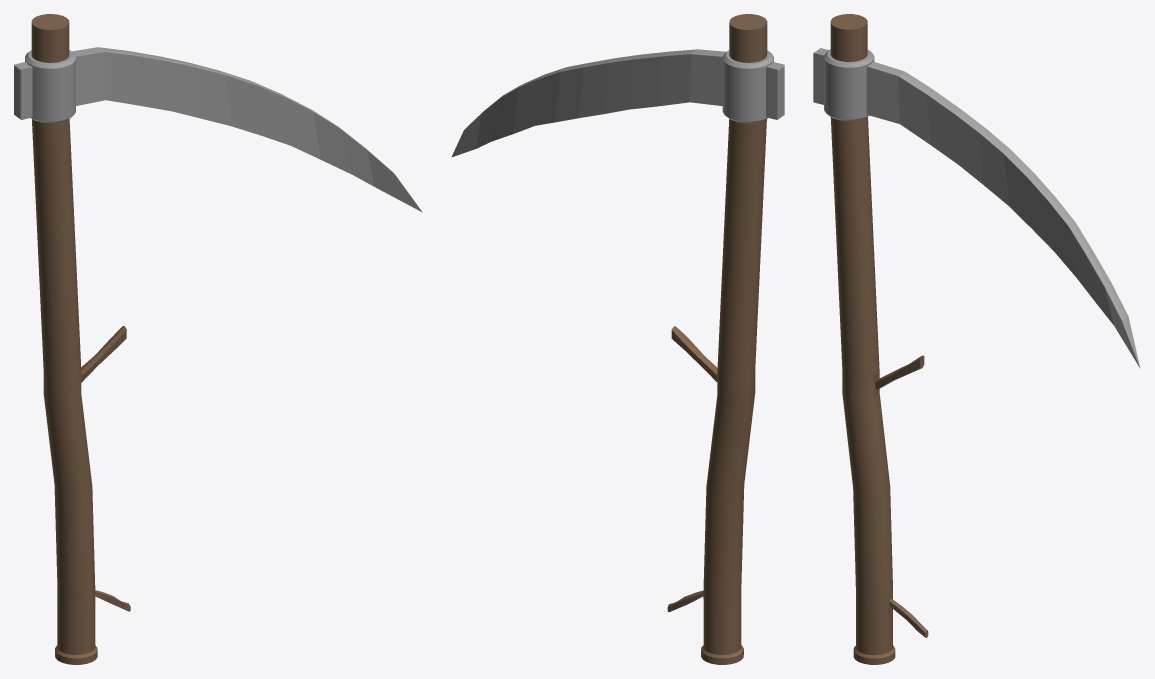
Rendered from Scythe.fbx.
3 views of the same model, side by side, from view 1: azimuth 30°, elevation 25°; view 2: azimuth 150°, elevation 25°; view 3: azimuth 330°, elevation 25° (orthographic).
Parts seen in each view (by area): view 1: Scythe; view 2: Scythe; view 3: Scythe.
Part boxes in pixels (<box>): Scythe: <box>14,14,422,664</box>; Scythe: <box>451,14,784,664</box>; Scythe: <box>813,14,1140,664</box>.
Bounding box in the file's own units: 6.26 × 10.41 × 1.49.
